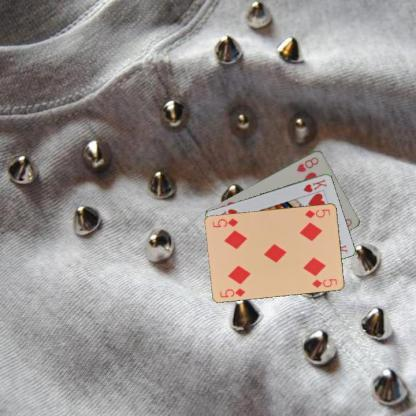5d: (302, 206, 332, 220), (218, 285, 247, 299)
8h: (294, 154, 320, 173)
Kh: (300, 176, 328, 194)
